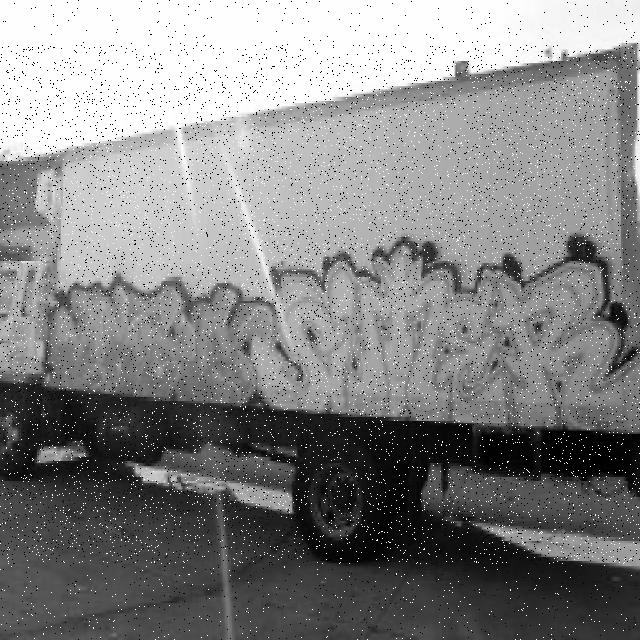Box Truck: (0, 45, 640, 564)
